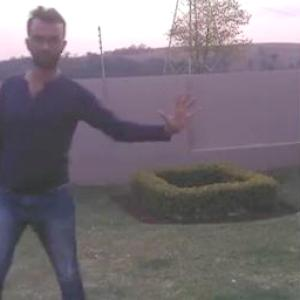follow_hand: (158, 88, 205, 135)
